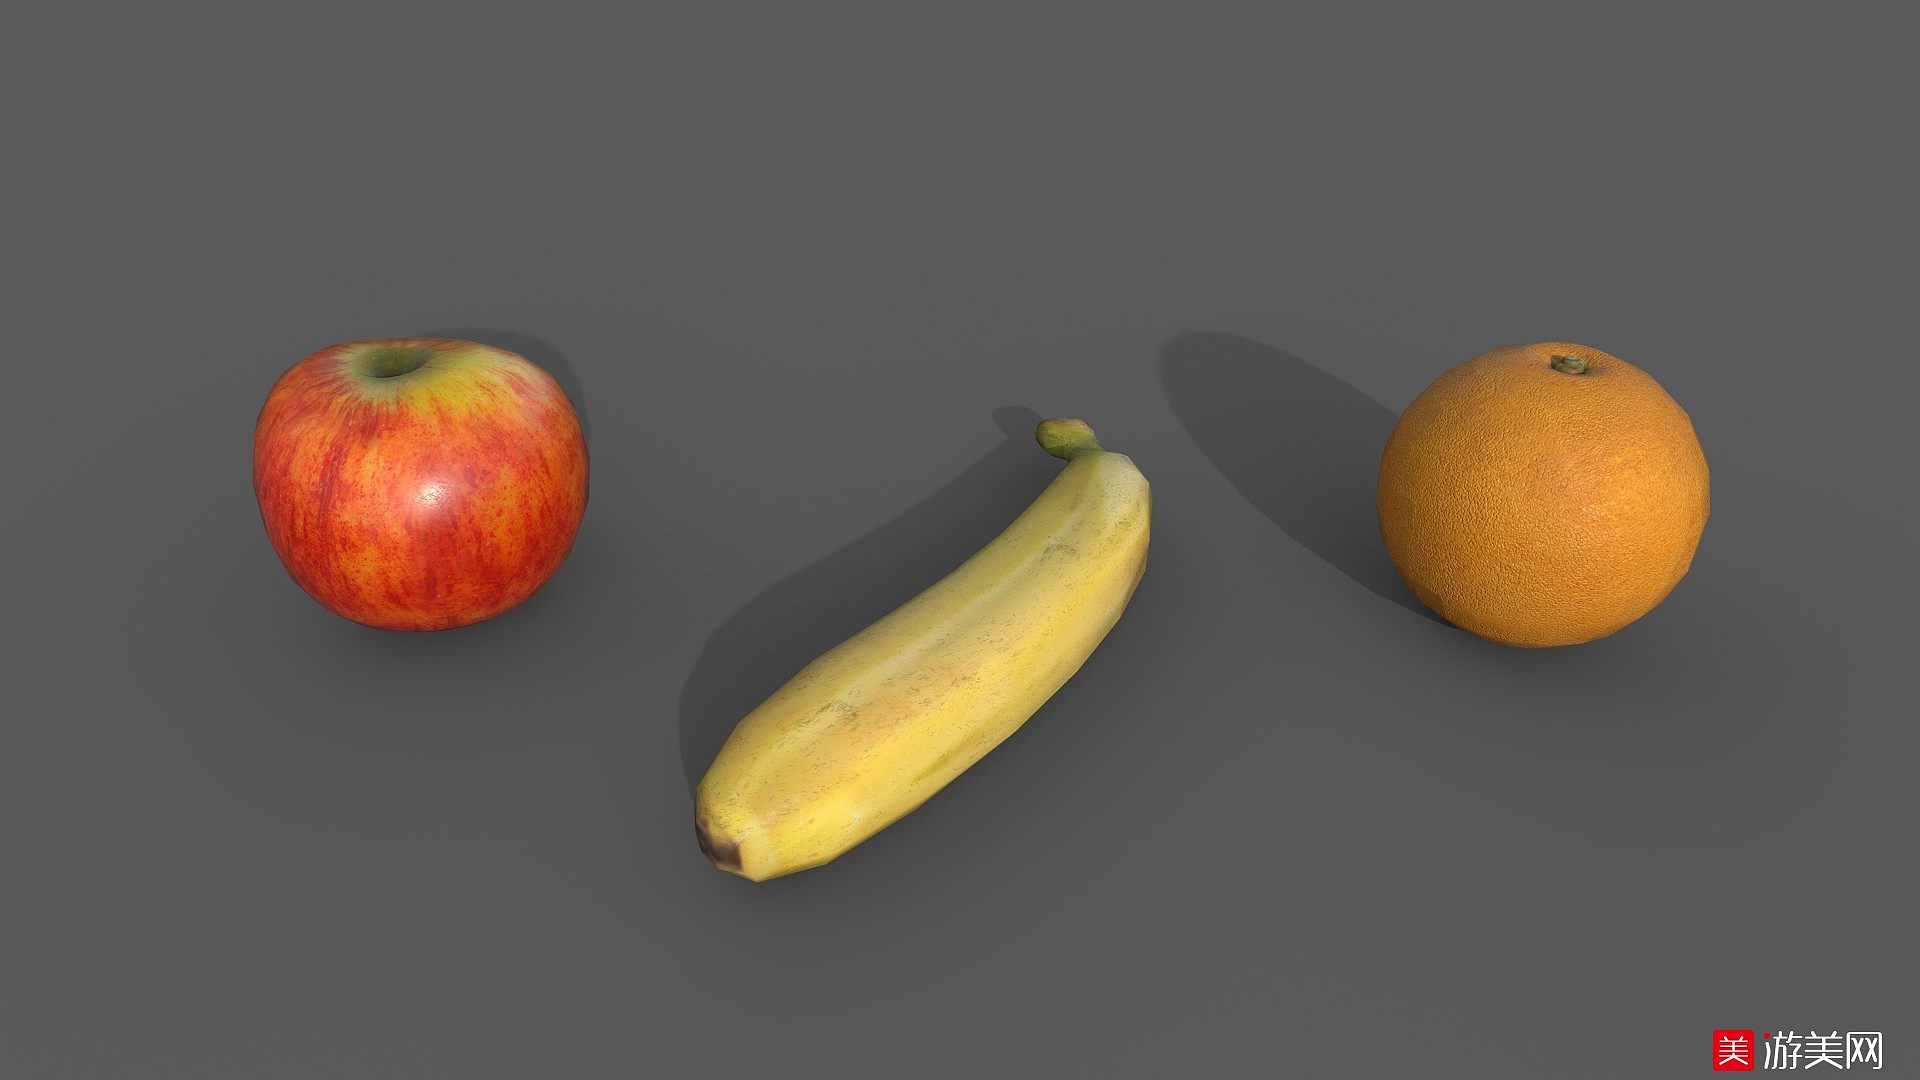apple: (247, 330, 592, 632)
banana: (691, 418, 1158, 887)
orange: (1370, 338, 1713, 647)
